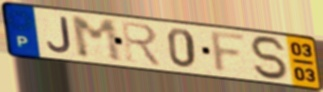0: (166, 27, 198, 70)
F: (208, 29, 249, 76)
J: (45, 15, 75, 55)
M: (69, 15, 126, 64)
R: (119, 20, 166, 69)
S: (247, 35, 292, 82)
